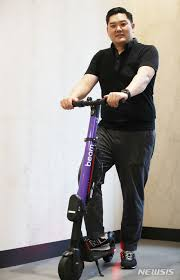kick_wheel: (57, 252, 84, 280)
